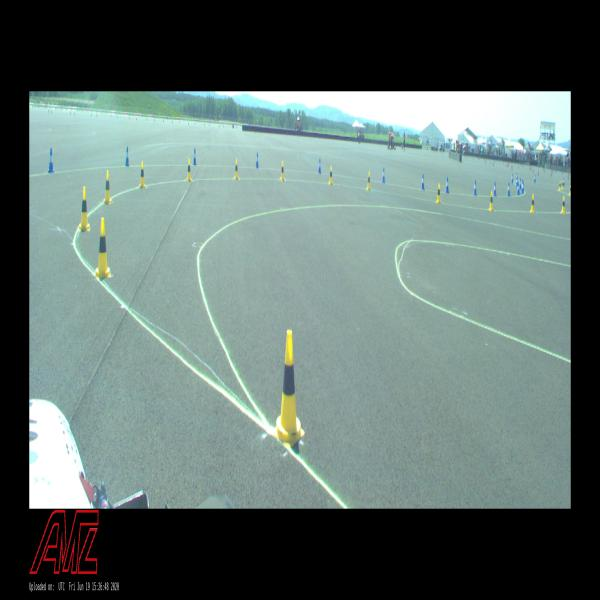blue_cone: (48, 149, 54, 172), (125, 146, 129, 166), (193, 148, 197, 165), (421, 174, 425, 189), (446, 178, 450, 193), (473, 180, 477, 195), (493, 182, 497, 196), (382, 167, 385, 183), (256, 152, 259, 168), (318, 158, 321, 173), (507, 183, 510, 196), (517, 183, 520, 195), (522, 181, 524, 193), (520, 178, 522, 189), (521, 180, 523, 190), (516, 176, 518, 186), (511, 174, 513, 183), (563, 178, 565, 186), (516, 172, 517, 181), (534, 175, 535, 182)
unknown_cone: (568, 174, 568, 178)
yellow_cone: (273, 330, 305, 448), (95, 218, 111, 278), (79, 186, 90, 230), (103, 171, 112, 204), (139, 162, 146, 187), (186, 159, 192, 181), (436, 183, 441, 203), (234, 159, 238, 179), (489, 191, 493, 211), (329, 166, 333, 185), (366, 171, 370, 190), (280, 161, 284, 180), (530, 194, 534, 212), (561, 196, 565, 213), (569, 185, 571, 195), (559, 181, 561, 190), (562, 181, 564, 189)
